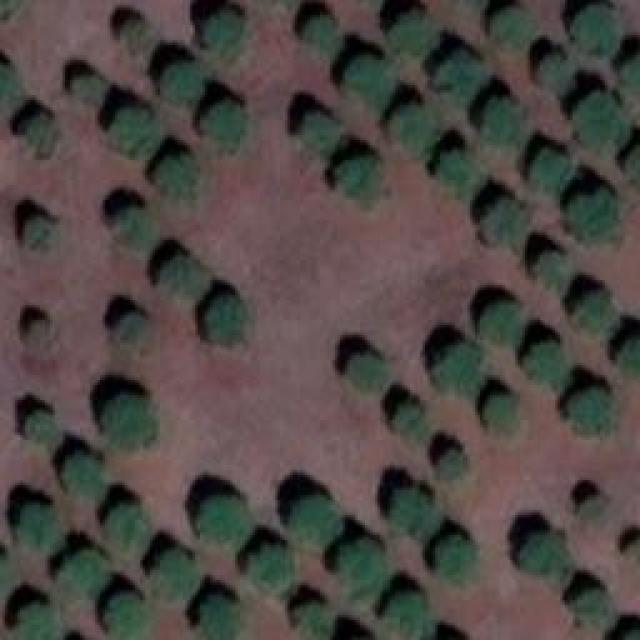Tree: (573, 85, 626, 150), (198, 492, 251, 550), (335, 542, 388, 600), (565, 188, 618, 243), (18, 500, 68, 558), (290, 498, 343, 551), (97, 395, 155, 443), (575, 3, 625, 56), (193, 103, 246, 153), (248, 543, 293, 598), (55, 452, 105, 500), (343, 55, 396, 100), (152, 152, 200, 200), (475, 197, 523, 245), (482, 5, 530, 53), (393, 485, 436, 538), (63, 548, 108, 598), (483, 98, 528, 148), (395, 7, 440, 55), (335, 155, 383, 200), (155, 255, 203, 300), (567, 390, 615, 435), (380, 595, 428, 640), (475, 300, 523, 343), (153, 550, 196, 598), (200, 298, 245, 343), (438, 348, 483, 393), (518, 343, 563, 388), (388, 105, 431, 150), (528, 148, 571, 193), (575, 293, 618, 338), (520, 533, 565, 576), (433, 535, 473, 583), (105, 500, 143, 550), (200, 592, 238, 640), (163, 63, 208, 103), (208, 10, 248, 55), (535, 55, 575, 100), (433, 150, 473, 193), (102, 595, 140, 640), (442, 53, 480, 96), (115, 110, 153, 150), (297, 115, 335, 153), (20, 217, 58, 255), (117, 210, 155, 248), (347, 350, 385, 388), (292, 602, 330, 640), (115, 310, 148, 353), (22, 115, 60, 150), (535, 252, 570, 290), (483, 395, 516, 435), (575, 493, 613, 526), (567, 588, 605, 621), (393, 400, 426, 435), (30, 317, 60, 355), (125, 20, 153, 58), (18, 603, 48, 638), (305, 15, 335, 48), (73, 77, 108, 105), (435, 450, 463, 483), (25, 410, 55, 438), (622, 338, 640, 381)
